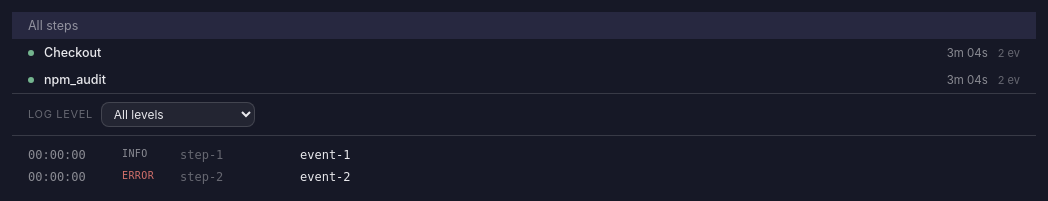
Scenario: RunDetailLogSection — terminal run (LogViewer) › clicking a step narrows the log to that step's events (AC2)
Click the button "Checkout 3m 04s 2 ev" at (73, 52), box [12,39,1036,66]
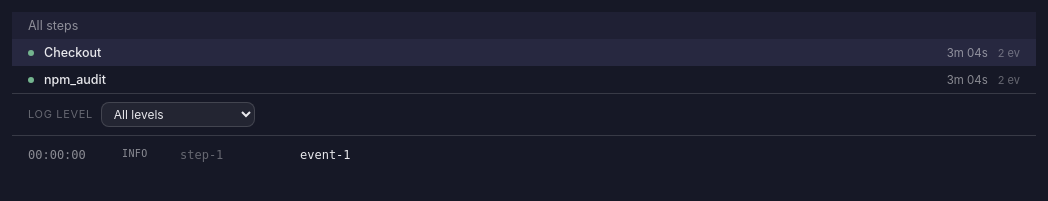
Expected: the text "event-1" is shown, [300,148,351,162]
Expected: the text "event-2" is gone
